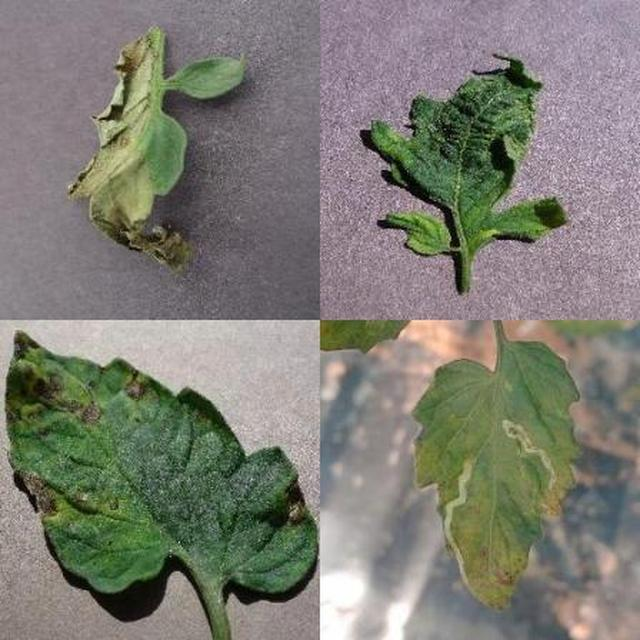Late Blight Leaf: (178, 219, 640, 640)
